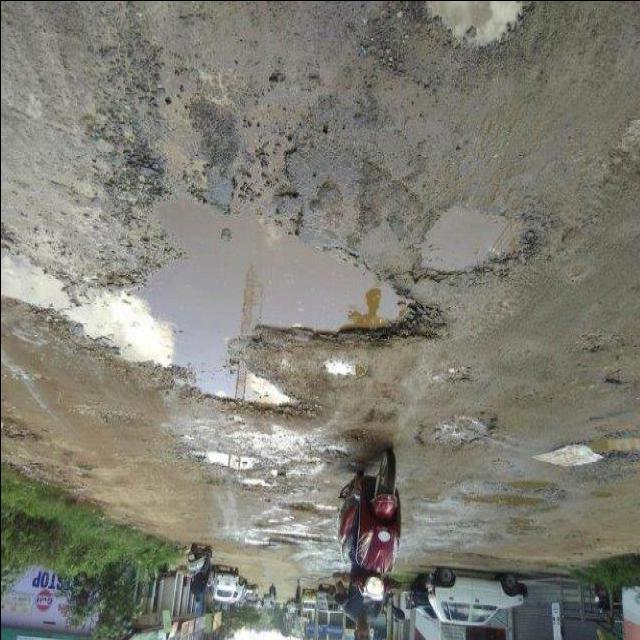lubang: (81, 144, 449, 430), (95, 3, 230, 236), (0, 214, 125, 372), (207, 124, 326, 244), (416, 200, 543, 280), (0, 238, 79, 340), (586, 96, 640, 220), (420, 1, 542, 48), (417, 398, 500, 457), (196, 462, 310, 504), (518, 206, 580, 268), (8, 456, 86, 500), (237, 518, 335, 552), (458, 487, 564, 518), (284, 430, 362, 466), (486, 472, 569, 504), (0, 403, 46, 457), (312, 353, 371, 393), (580, 432, 640, 466), (191, 446, 271, 471), (494, 509, 548, 543), (283, 494, 355, 518), (428, 358, 472, 390), (564, 330, 616, 357), (58, 448, 96, 484), (598, 361, 634, 398), (416, 483, 447, 518), (435, 514, 489, 532), (577, 484, 617, 506)
